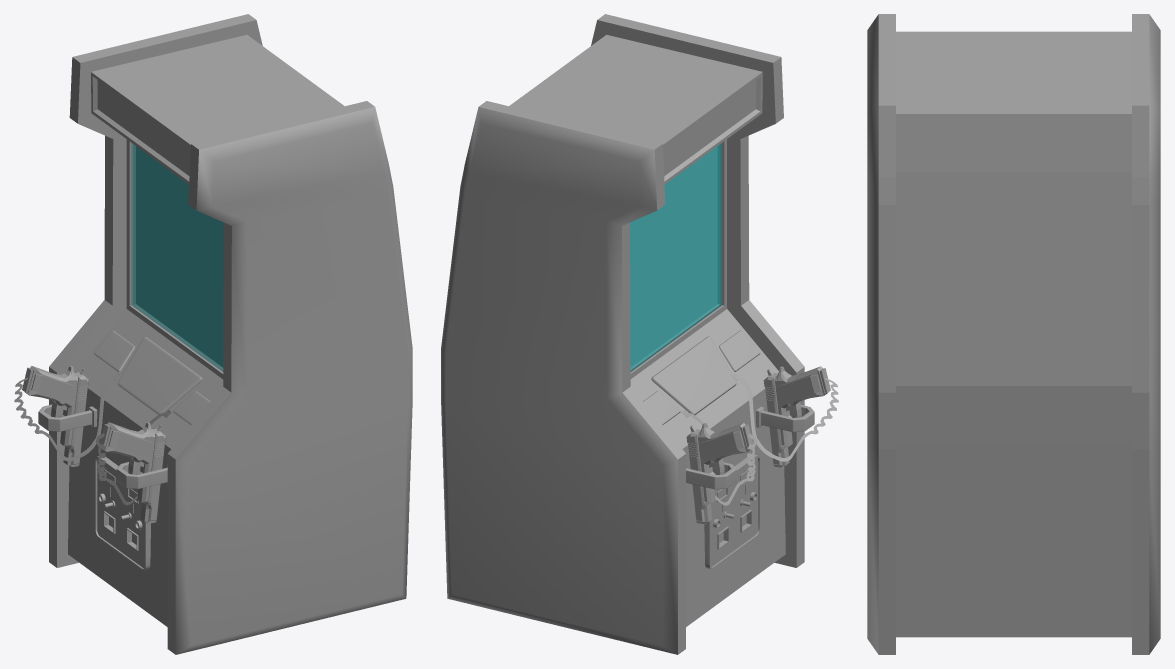
File: Gun gamne in.fbx
The picture shows the model from 3 angles, left to right: view 1: azimuth 30°, elevation 25°; view 2: azimuth 150°, elevation 25°; view 3: azimuth 270°, elevation 25°; orthographic projection. The views are drawn at different scales.
Visible parts, largest first — view 1: pCube4, polySurface40, polySurface54, Body, Body1, polySurface60, cock, polySurface52, cock1, polySurface62, polySurface56, polySurface53; view 2: pCube4, polySurface40, polySurface54, Body1, Body, polySurface56, cock1, polySurface53, cock, polySurface60, polySurface58, polySurface52; view 3: pCube4.
Part boxes in pixels (bbox=[...]): pCube4: bbox=[49, 14, 412, 654]; polySurface40: bbox=[94, 456, 150, 570]; polySurface54: bbox=[117, 337, 202, 414]; Body: bbox=[103, 422, 155, 502]; Body1: bbox=[25, 366, 77, 446]; polySurface60: bbox=[38, 404, 97, 431]; cock: bbox=[140, 424, 166, 523]; polySurface52: bbox=[94, 330, 134, 371]; cock1: bbox=[63, 368, 89, 466]; polySurface62: bbox=[14, 374, 119, 461]; polySurface56: bbox=[116, 462, 167, 488]; polySurface53: bbox=[173, 391, 210, 424]; pCube4: bbox=[441, 14, 804, 654]; polySurface40: bbox=[704, 454, 760, 569]; polySurface54: bbox=[651, 336, 736, 414]; Body1: bbox=[697, 423, 749, 503]; Body: bbox=[775, 366, 827, 446]; polySurface56: bbox=[756, 404, 814, 432]; cock1: bbox=[686, 425, 712, 523]; polySurface53: bbox=[719, 330, 760, 371]; cock: bbox=[763, 369, 789, 467]; polySurface60: bbox=[686, 462, 736, 489]; polySurface58: bbox=[734, 375, 838, 461]; polySurface52: bbox=[643, 391, 680, 424]; pCube4: bbox=[867, 14, 1160, 654].
Bounding box in the file's own units: 1.4 × 2.29 × 1.14.
